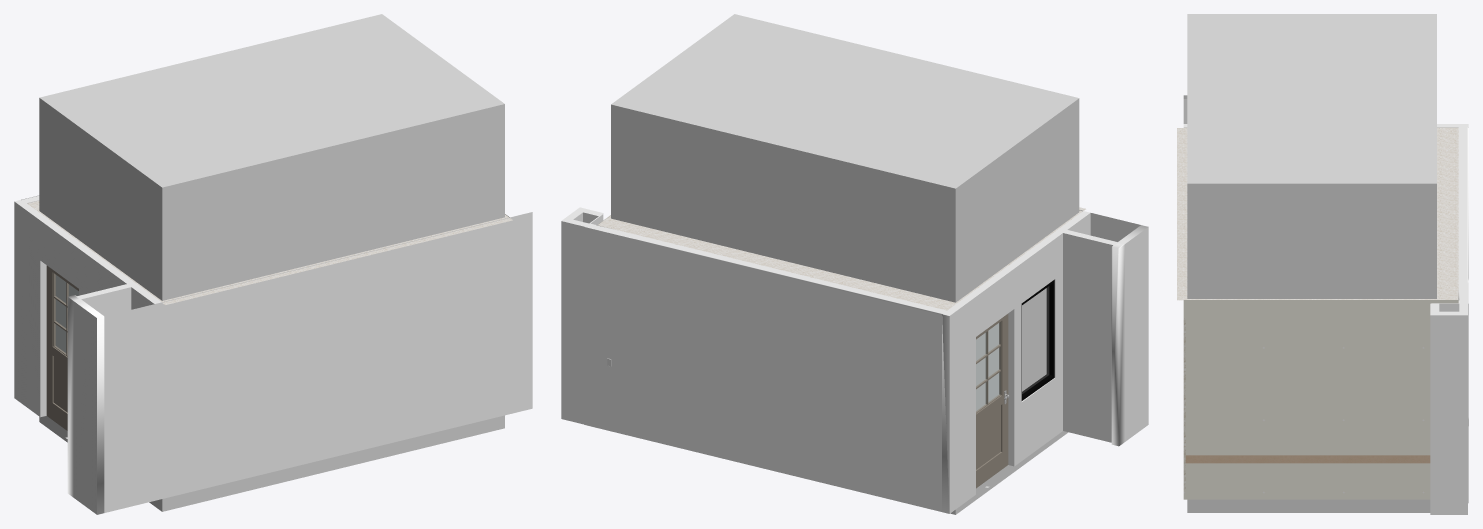
Rendered from breakout_room_b_01.glb.
The picture shows the model from 3 angles, left to right: view 1: azimuth 30°, elevation 25°; view 2: azimuth 150°, elevation 25°; view 3: azimuth 270°, elevation 25°; orthographic projection.
Visible parts, largest first — view 1: room_walls, available_moving_area, hub_entrance.001, breakroom_ceiling; view 2: room_walls, available_moving_area, hub_entrance.001, breakroom_ceiling, window; view 3: available_moving_area, room_walls, breakroom_ceiling, Mesh1326 Group1390 Model, Mesh521 Group604 Model.
Part boxes in pixels (bbox=[...]): room_walls: bbox=[14, 195, 532, 514]; available_moving_area: bbox=[39, 14, 504, 511]; hub_entrance.001: bbox=[46, 265, 78, 430]; breakroom_ceiling: bbox=[27, 200, 512, 304]; room_walls: bbox=[561, 207, 1148, 513]; available_moving_area: bbox=[611, 14, 1079, 514]; hub_entrance.001: bbox=[976, 313, 1009, 488]; breakroom_ceiling: bbox=[598, 207, 1085, 310]; window: bbox=[1021, 279, 1054, 400]; available_moving_area: bbox=[1187, 14, 1436, 512]; room_walls: bbox=[1183, 95, 1468, 514]; breakroom_ceiling: bbox=[1177, 128, 1458, 300]; Mesh1326 Group1390 Model: bbox=[1185, 455, 1430, 463]; Mesh521 Group604 Model: bbox=[1183, 318, 1185, 489].
Size of what is drawn, in the model's own units: 287 by 200 by 161.
61 materials, 33 textured.
